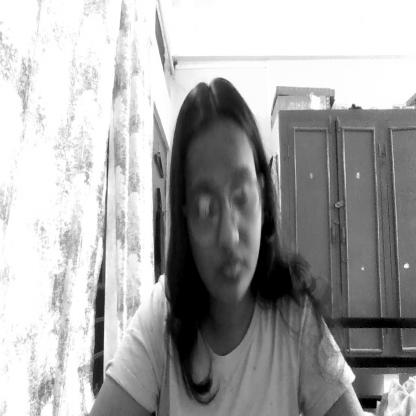Normal: (176, 87, 264, 311)
